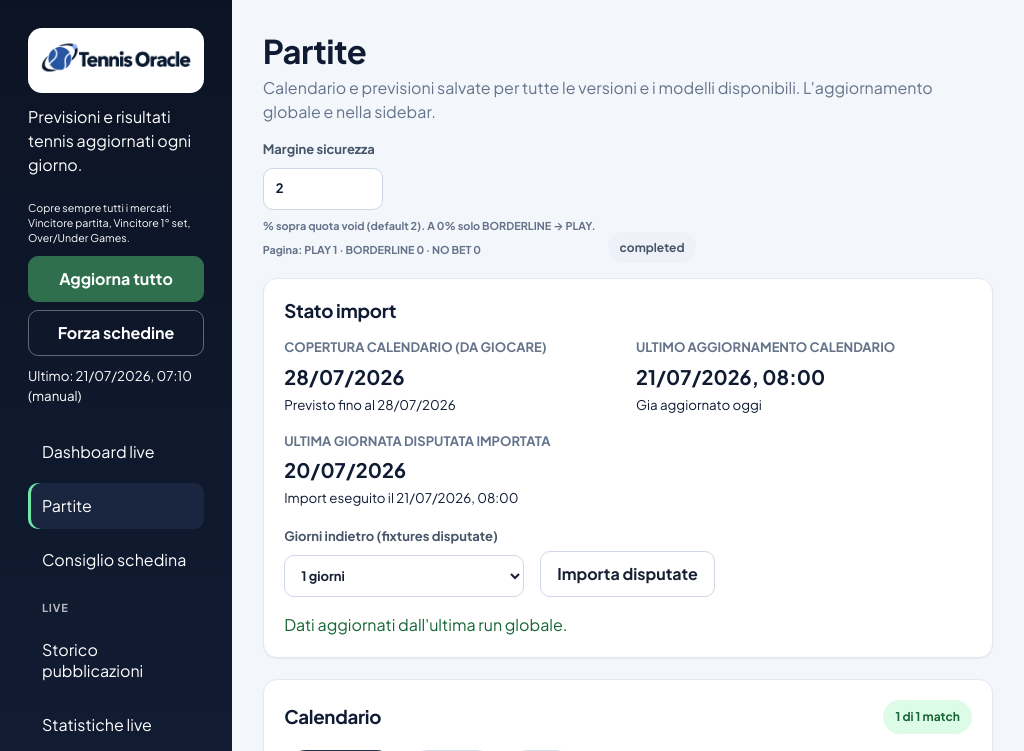
it: App navigation and auth › boots authenticated shell on predictions and navigates to betting slips
Check: the heading "Partite" is shown, box 263,30 -> 366,71
Check: the picture named "Tennis Oracle" is shown, box 40,40 -> 192,81
Click the link "Consiglio schedina". click: (114, 559)
box: 42,549 -> 186,570
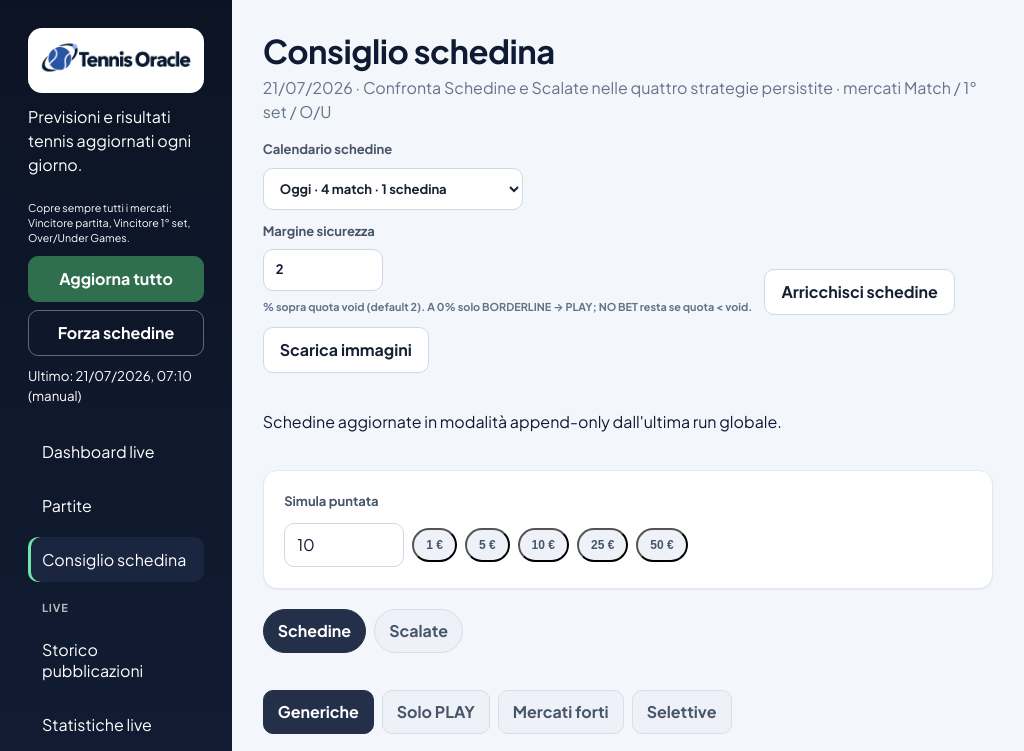
Check: the heading "Consiglio schedina" is shown, box 263,30 -> 555,71
